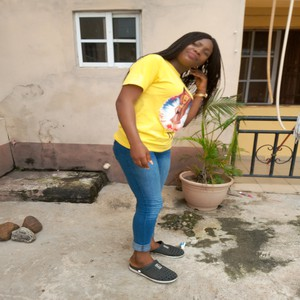Fulokoja_female_student: (123, 33, 222, 276)
